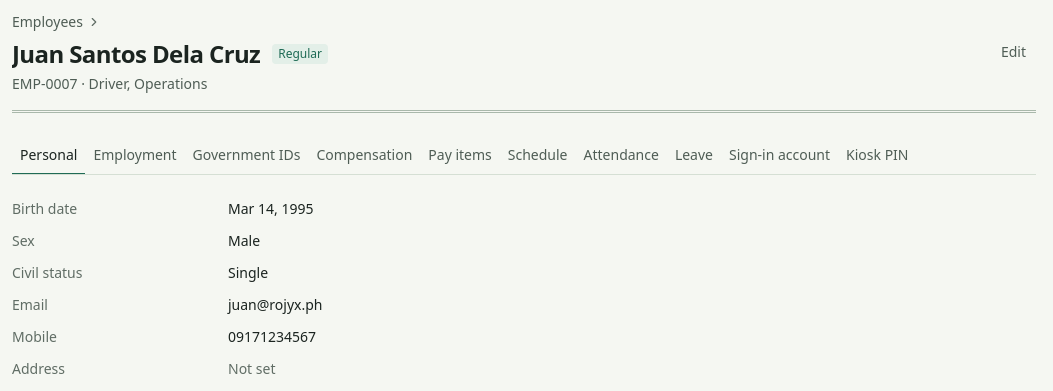
Test case: EmployeeProfilePage › shows the profile with government IDs in their official format
The image size is (1053, 391).
Expected: the heading "Juan Santos Dela Cruz" is shown, x1=12 y1=38 x2=260 y2=70
Expected: the text "EMP-0007 · Driver, Operations" is shown, x1=12 y1=74 x2=207 y2=93
Click the tab "Government IDs": (246, 156) x1=185 y1=137 x2=308 y2=175
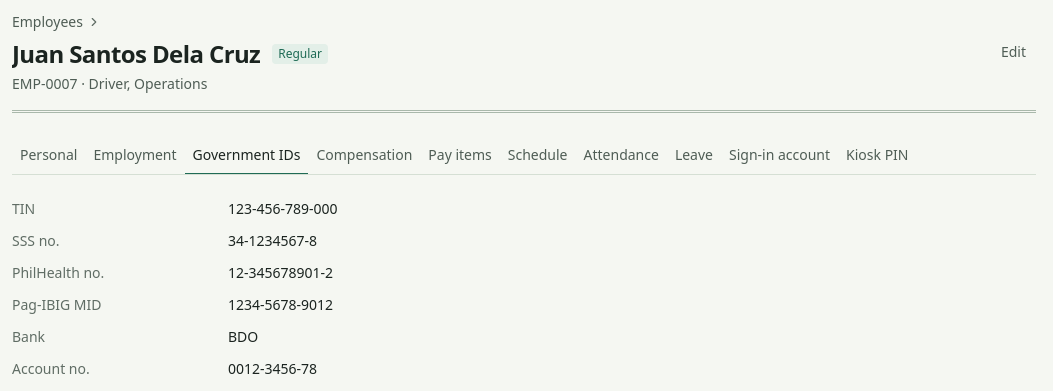
Expected: the text "123-456-789-000" is shown, x1=228 y1=199 x2=338 y2=218
Expected: the text "34-1234567-8" is shown, x1=228 y1=231 x2=317 y2=250
Expected: the text "12-345678901-2" is shown, x1=228 y1=263 x2=333 y2=282
